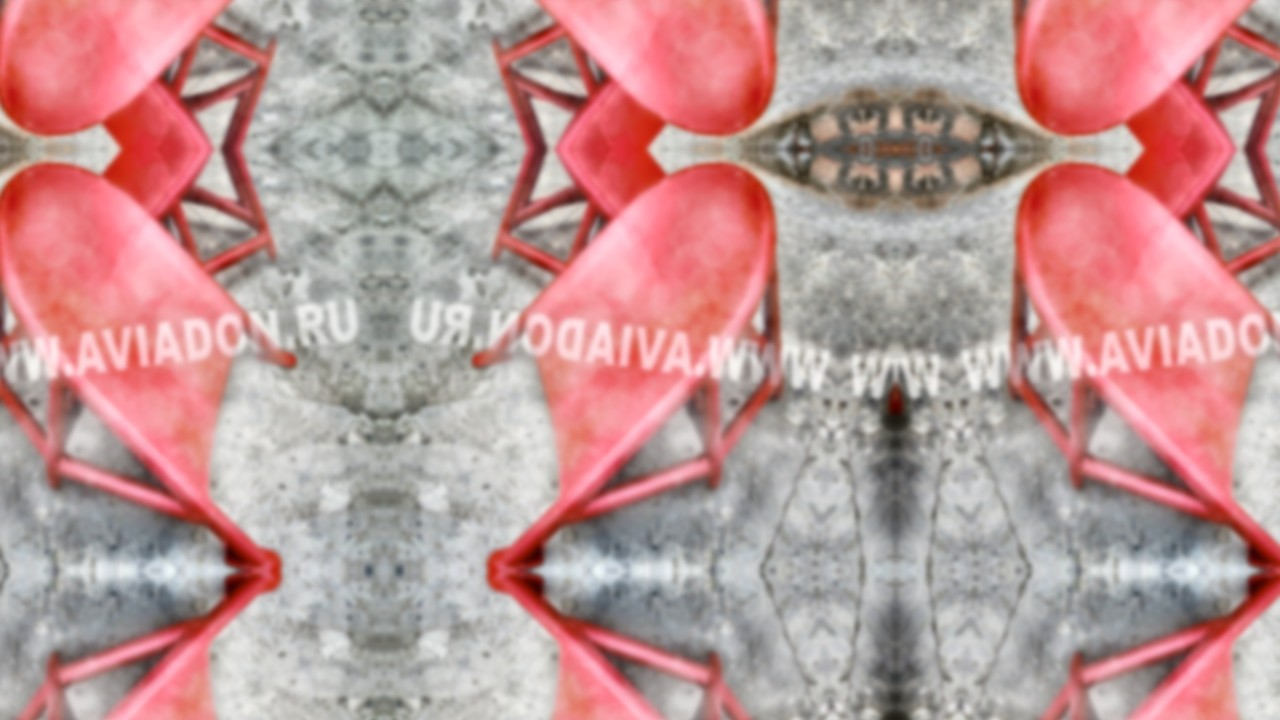chock: (446, 149, 812, 571), (0, 149, 322, 571), (980, 149, 1280, 571), (446, 0, 812, 149), (446, 571, 812, 720), (0, 0, 322, 149), (0, 571, 322, 720), (980, 0, 1280, 149), (980, 571, 1280, 720), (91, 18, 281, 149), (487, 18, 677, 149), (91, 149, 281, 280), (487, 149, 677, 280), (1115, 18, 1280, 149), (1115, 149, 1280, 280)
